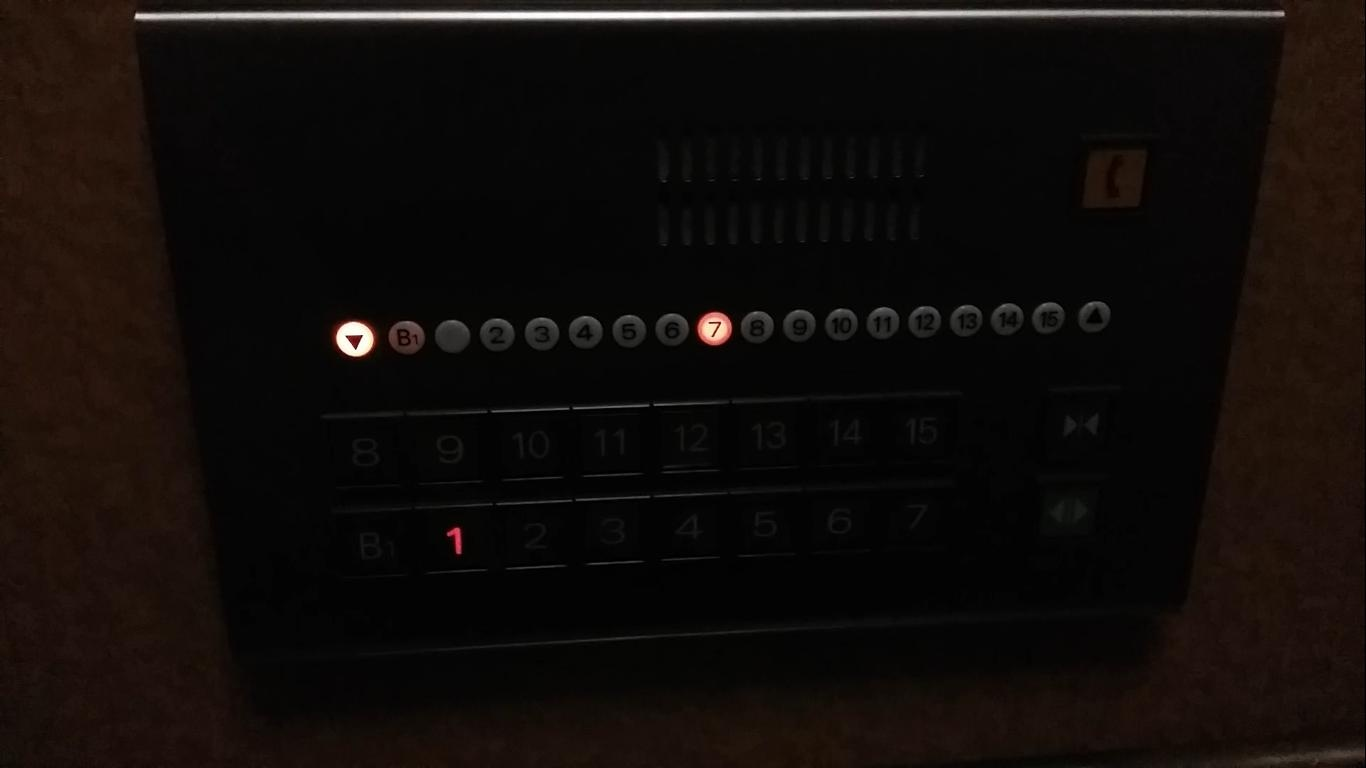1: (407, 497, 501, 577)
10: (484, 403, 578, 485), (823, 306, 859, 343)
11: (565, 402, 658, 482), (863, 304, 903, 341)
12: (645, 397, 739, 479), (907, 302, 943, 340)
13: (727, 394, 820, 476), (949, 302, 985, 339)
14: (808, 389, 896, 471), (988, 301, 1026, 336)
15: (879, 386, 964, 466), (1031, 299, 1068, 336)
2: (488, 495, 580, 575), (477, 315, 518, 355)
3: (568, 491, 659, 570), (522, 313, 562, 354)
4: (648, 488, 742, 570), (566, 314, 605, 352)
5: (730, 484, 823, 565), (609, 312, 649, 350)
6: (651, 310, 691, 347)
7: (695, 308, 734, 348)
8: (318, 405, 411, 493), (738, 308, 776, 344)
9: (399, 403, 496, 491), (780, 307, 818, 344)
B1: (385, 318, 427, 356)
alarm: (1075, 297, 1112, 334)
call: (1077, 136, 1150, 217)
down: (332, 318, 378, 362)
empty: (433, 318, 472, 355)
